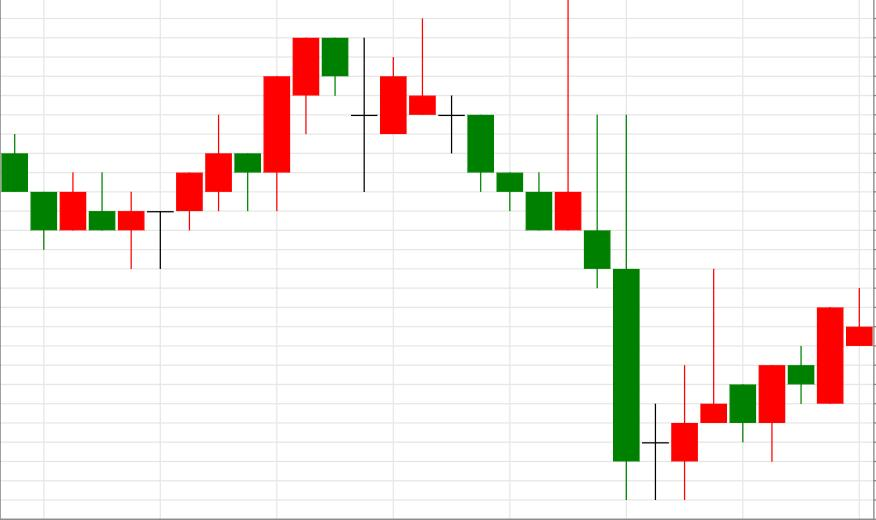inverse_hammer_rise: (438, 0, 582, 229)
